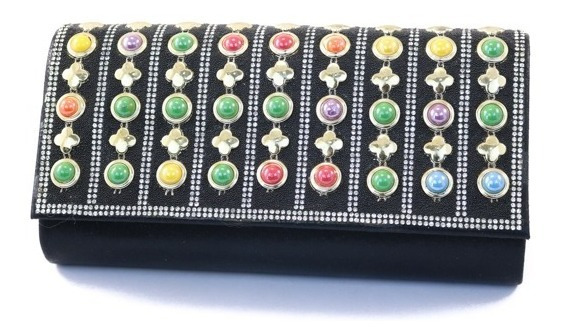cartera: (26, 17, 535, 288)
